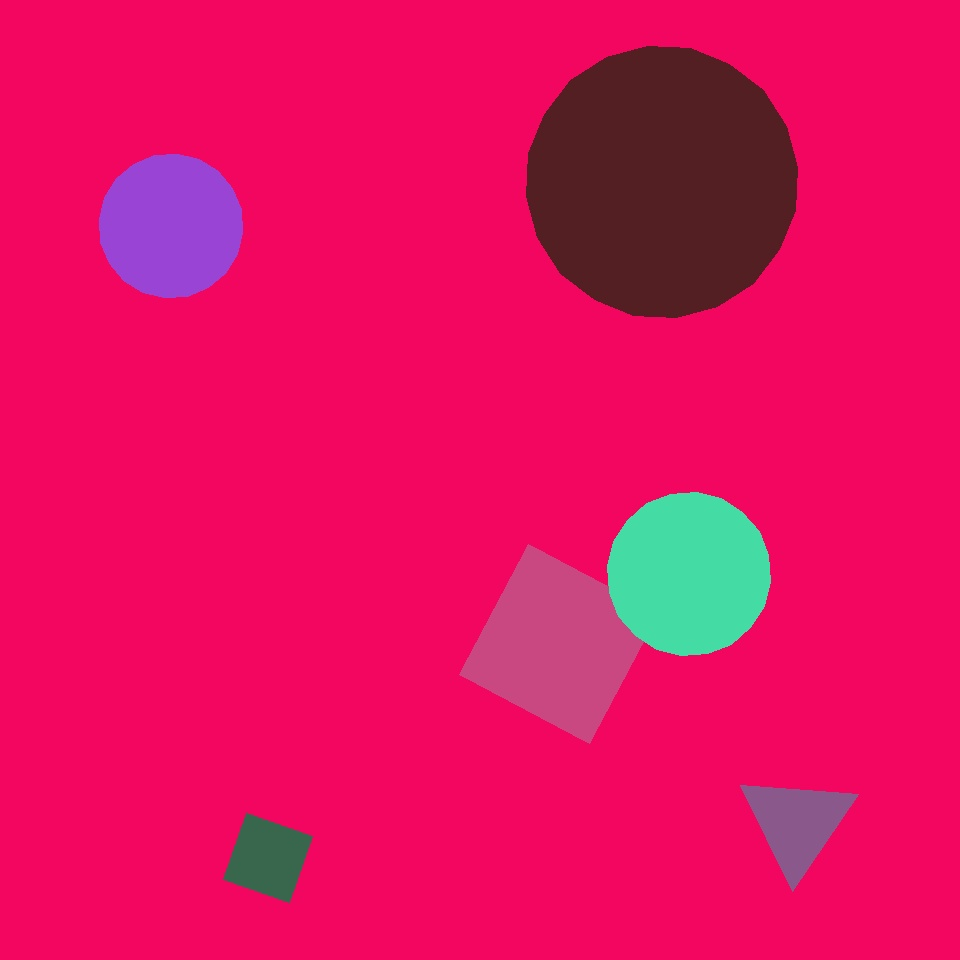circle: (738, 771, 856, 877)
square: (410, 274, 719, 583), (460, 544, 658, 744), (224, 814, 313, 903)
triangle: (279, 489, 646, 855), (526, 46, 798, 317), (337, 304, 546, 514), (423, 22, 610, 208), (608, 492, 770, 656), (100, 154, 243, 298)
